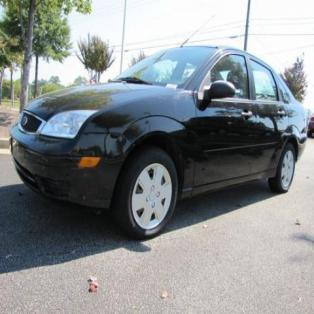Auto: (10, 44, 309, 239)
